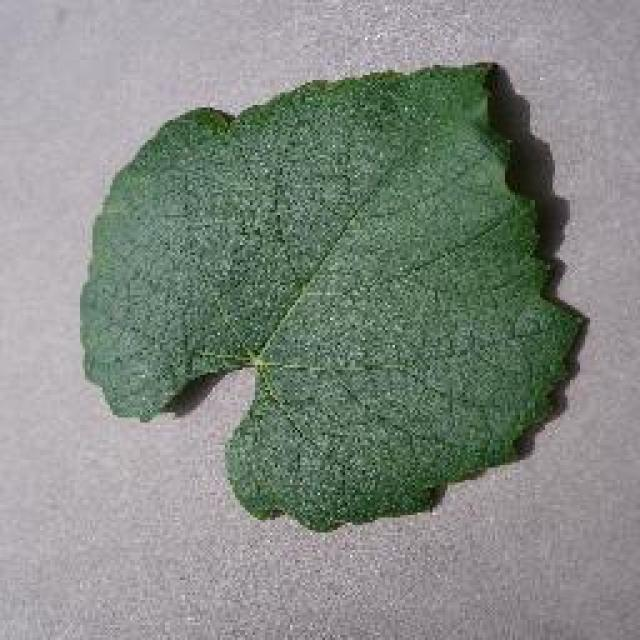Healthy: (68, 27, 587, 556)
